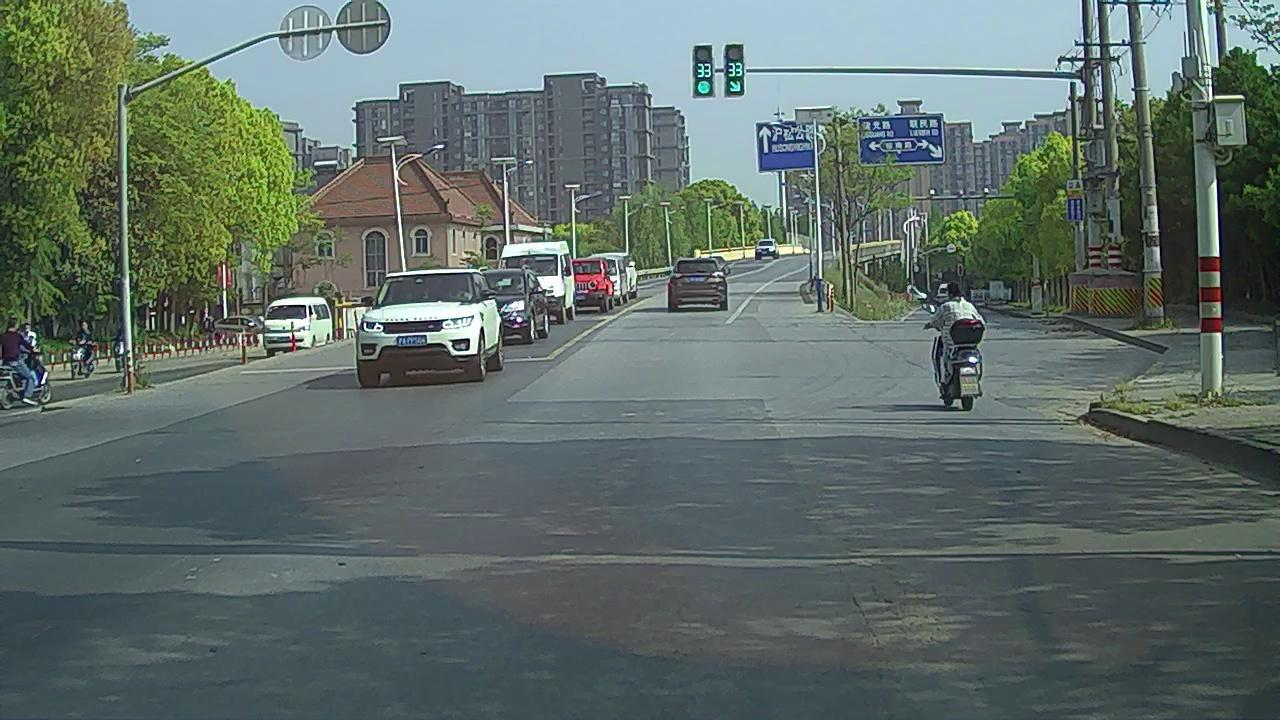traffic_light: (695, 44, 712, 96), (727, 44, 743, 95)
